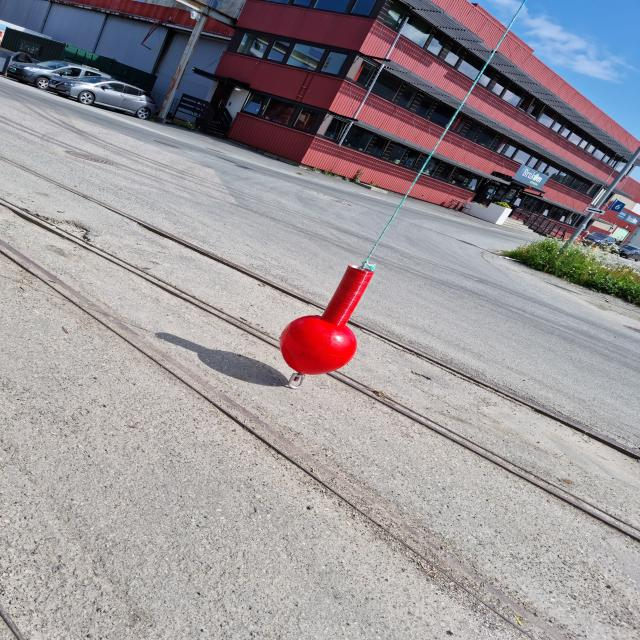red: (278, 266, 376, 376)
